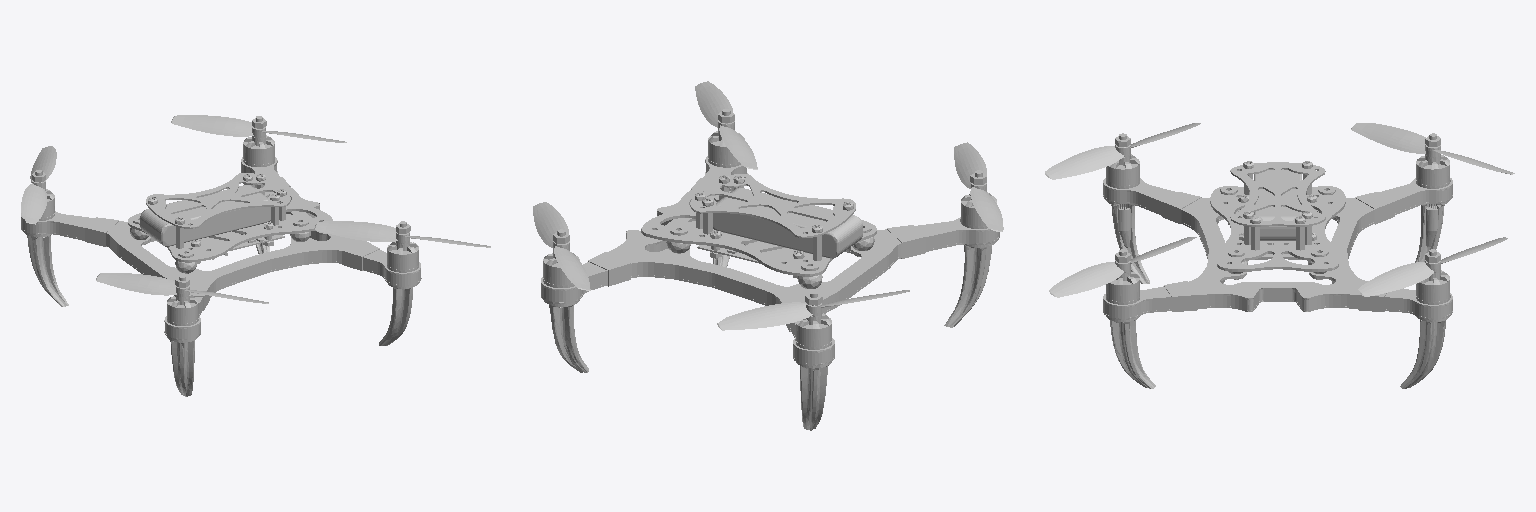
The robot description file, URDF, robot "ddk":
<?xml version="1.0"?>
<!--
/****************************************************************************
 *   Copyright (c) 2018 [author]. All rights reserved.
 *
 * Redistribution and use in source and binary forms, with or without
 * modification, are permitted provided that the following conditions
 * are met:
 *
 * 1. Redistributions of source code must retain the above copyright
 *    notice, this list of conditions and the following disclaimer.
 * 2. Redistributions in binary form must reproduce the above copyright
 *    notice, this list of conditions and the following disclaimer in
 *    the documentation and/or other materials provided with the
 *    distribution.
 * 3. Neither the name ATLFlight nor the names of its contributors may be
 *    used to endorse or promote products derived from this software
 *    without specific prior written permission.
 *
 * NO EXPRESS OR IMPLIED LICENSES TO ANY PARTY'S PATENT RIGHTS ARE GRANTED BY THIS LICENSE.
 * THIS SOFTWARE IS PROVIDED BY THE COPYRIGHT [author]
 * "AS IS" AND ANY EXPRESS OR IMPLIED WARRANTIES, INCLUDING, BUT NOT
 * LIMITED TO, THE IMPLIED WARRANTIES OF MERCHANTABILITY AND FITNESS
 * FOR A PARTICULAR PURPOSE ARE DISCLAIMED. IN NO EVENT SHALL THE
 * COPYRIGHT [author] LIABLE FOR ANY DIRECT, INDIRECT,
 * INCIDENTAL, SPECIAL, EXEMPLARY, OR CONSEQUENTIAL DAMAGES (INCLUDING,
 * BUT NOT LIMITED TO, PROCUREMENT OF SUBSTITUTE GOODS OR SERVICES; LOSS
 * OF USE, DATA, OR PROFITS; OR BUSINESS INTERRUPTION) HOWEVER CAUSED
 * AND ON ANY THEORY OF LIABILITY, WHETHER IN CONTRACT, STRICT
 * LIABILITY, OR TORT (INCLUDING NEGLIGENCE OR OTHERWISE) ARISING IN
 * ANY WAY OUT OF THE USE OF THIS SOFTWARE, EVEN IF ADVISED OF THE
 * POSSIBILITY OF SUCH DAMAGE.
 *
 * In addition Supplemental Terms apply.  See the SUPPLEMENTAL file.
 ****************************************************************************/
-->
<robot name="ddk">
  <link name="base_link">
    <visual>
      <geometry>
        <mesh filename="package://qflight_descriptions/meshes/210.stl"/>
      </geometry>
      <origin rpy="1.57079632679 0 -1.57079632679" xyz="0 0 0"/>
      <material name="white">
        <color rgba="0.8 0.8 0.8 1"/>
      </material>
    </visual>
  </link>
</robot>

--- Render facts (derived) ---
3 views of the same robot in one strip: view 1: azimuth 30°, elevation 25°; view 2: azimuth 150°, elevation 25°; view 3: azimuth 270°, elevation 25° (orthographic).
Robot: ddk — 1 links, 0 joints (none); root link base_link; default pose: all joints at 0.
Links seen in each view (by area): view 1: base_link; view 2: base_link; view 3: base_link.
Link boxes in pixels (x1,y1,x2,y2): base_link: (21, 115, 490, 396); base_link: (533, 81, 1003, 430); base_link: (1045, 123, 1514, 388).
Size in the robot's own frame: 0.2133 by 0.2429 by 0.0805 metres.
Meshes: 1 distinct files referenced, 1 mesh visuals loaded (1 binary STL).